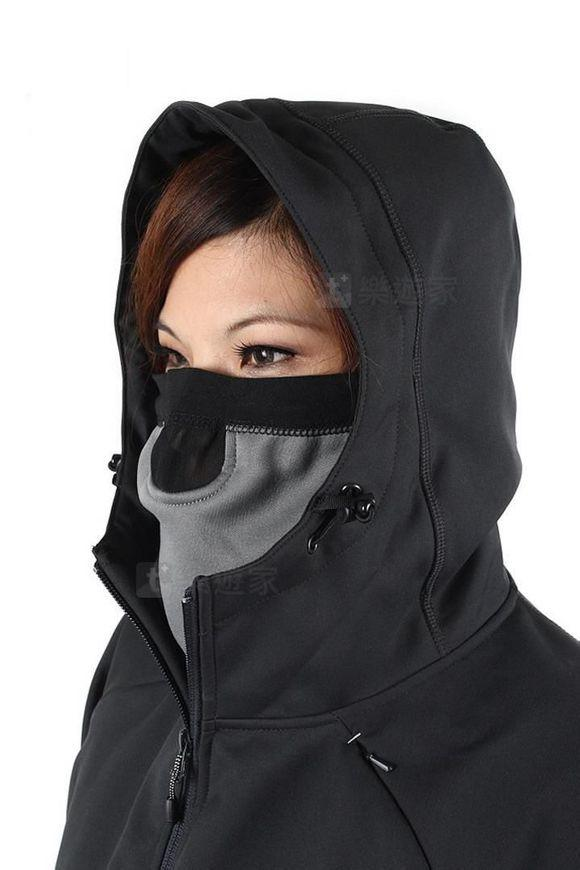OK: (130, 291, 362, 523)
